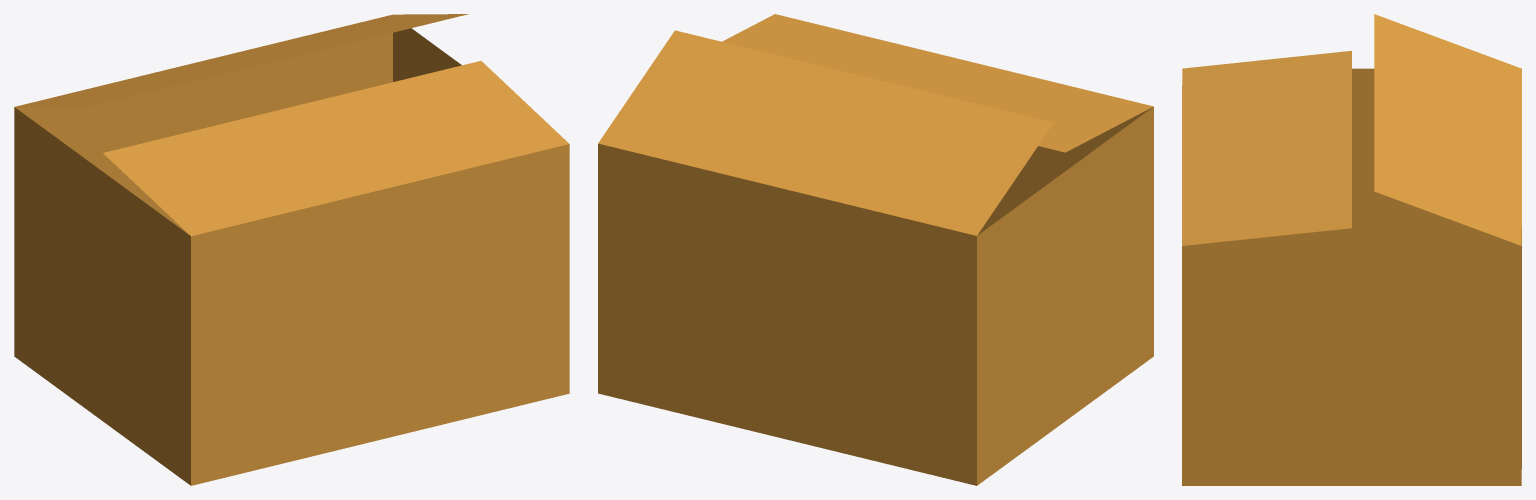
The model's file is CartonModel.fbx.
The picture shows the model from 3 angles, left to right: view 1: azimuth 30°, elevation 25°; view 2: azimuth 150°, elevation 25°; view 3: azimuth 270°, elevation 25°; orthographic projection. The views are drawn at different scales.
Parts seen in each view (by area): view 1: Carton; view 2: Carton; view 3: Carton.
Boxes of the visible parts, x1,y1,x2,y2 form: Carton: (14,14,569,485); Carton: (598,14,1153,485); Carton: (1182,14,1521,485).
Size of the model in its own units: 0.9748 by 0.7886 by 0.7542.
